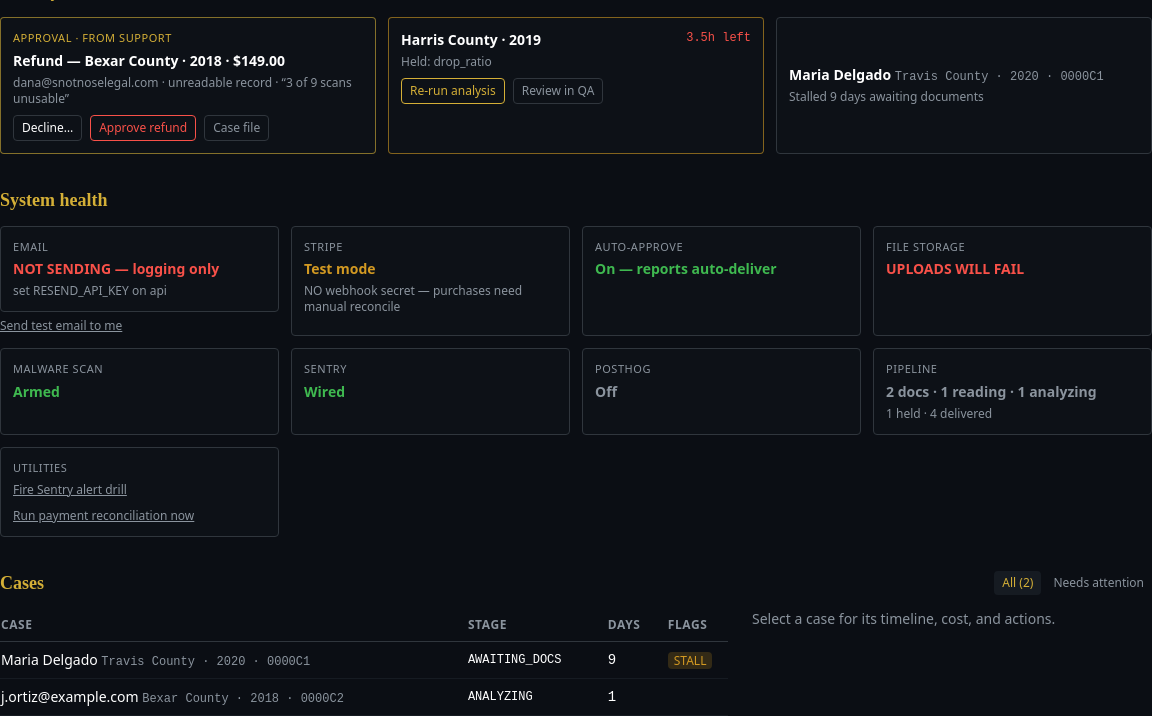
Test: drawer actions report next to the button (2026-09-09) › Resume stuck pipeline shows its result inside the drawer, not only at the page top
(page scrolled)
What coordinates should you click on to do the following:
click the text "j.ortiz@example.com"
I would click on:
 (233, 697)
Its box is [0,678,467,715].
(page scrolled)
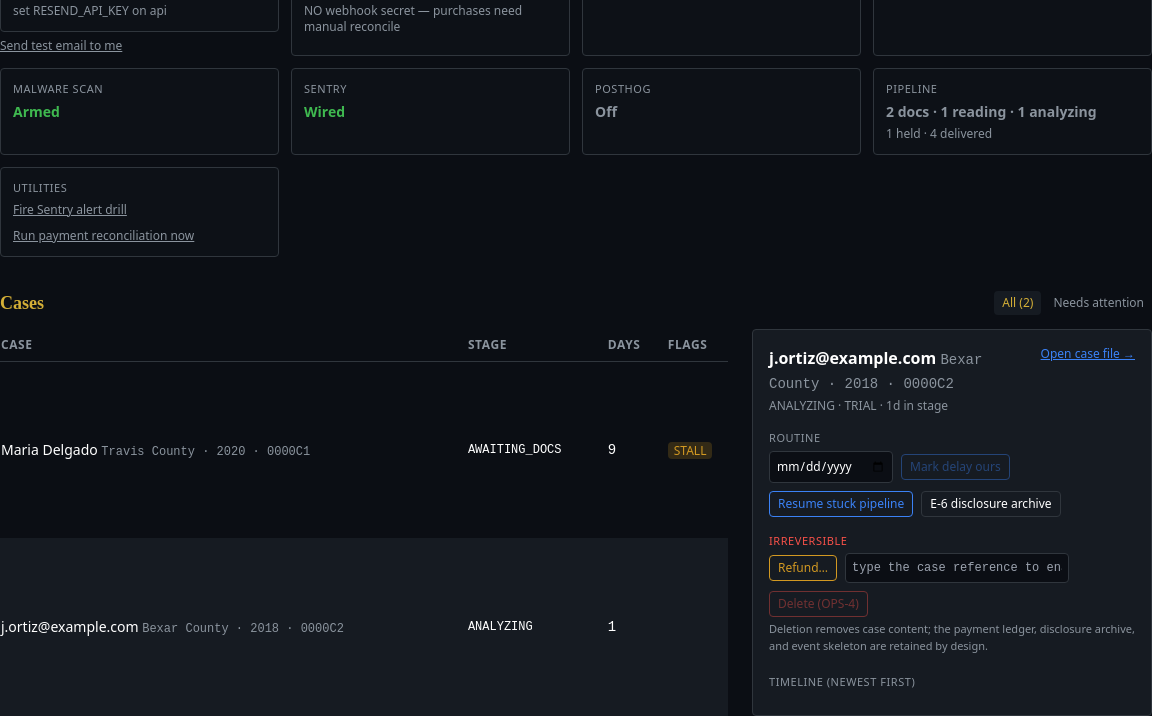
What coordinates should you click on to do the following:
click the button with test id "resume-pipeline"
I would click on:
 (841, 504)
Its box is [769,490,913,516].
(page scrolled)
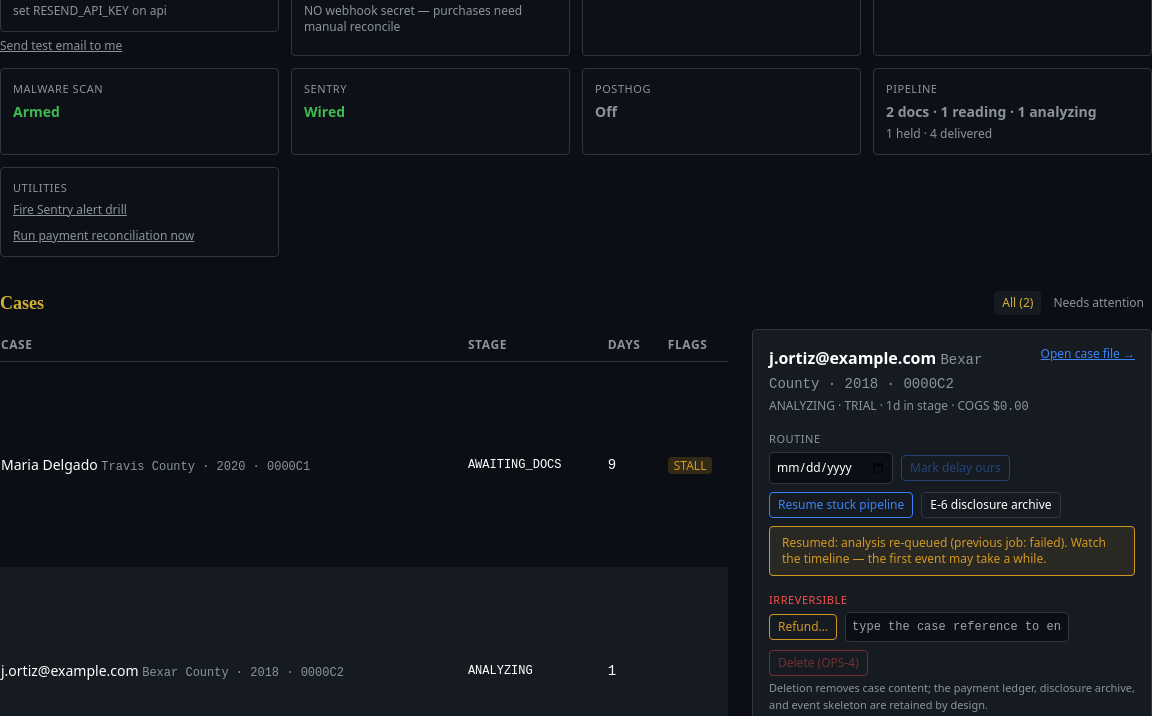
Expected: the message with test id "drawer-result" shows "analysis re-queued (previous job: failed)", [782,534,1106,566]
